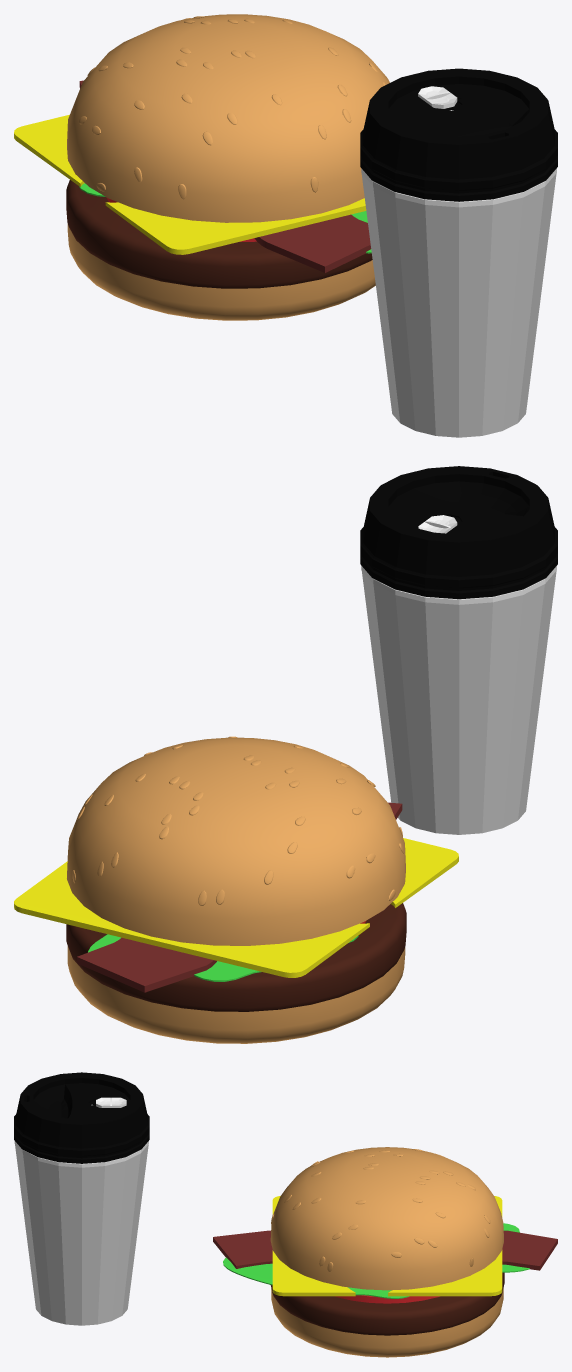
File: burger.gltf
The picture shows the model from 3 angles, top to bottom: view 1: azimuth 30°, elevation 25°; view 2: azimuth 150°, elevation 25°; view 3: azimuth 270°, elevation 25°; orthographic projection. The views are drawn at different scales.
Parts seen in each view (by area): view 1: Burger Bread A, Cup.2, Cap.3, Cutlet B, Burger Bread Down A, Cheese Slice C, Bacon Slice, Slider.1; view 2: Burger Bread A, Cup.2, Cap.3, Cutlet B, Burger Bread Down A, Cheese Slice C, Bacon Slice, Salad Slice; view 3: Burger Bread A, Cup.2, Cap.3, Cutlet B, Burger Bread Down A, Cheese Slice C, Bacon Slice, Salad Slice, Tomato Slice.
Boxes of the visible parts, x1,y1,x2,y2 form: Burger Bread A: [67, 14, 389, 222]; Cup.2: [361, 168, 556, 437]; Cap.3: [360, 68, 557, 201]; Cutlet B: [66, 180, 372, 288]; Burger Bread Down A: [67, 224, 375, 320]; Cheese Slice C: [14, 114, 366, 254]; Bacon Slice: [79, 80, 371, 272]; Slider.1: [418, 86, 457, 110]; Burger Bread A: [67, 736, 405, 945]; Cup.2: [361, 566, 556, 834]; Cap.3: [360, 466, 557, 599]; Cutlet B: [66, 903, 406, 1011]; Burger Bread Down A: [67, 946, 405, 1043]; Cheese Slice C: [14, 838, 458, 977]; Bacon Slice: [77, 802, 402, 992]; Salad Slice: [88, 934, 358, 981]; Burger Bread A: [270, 1147, 503, 1290]; Cup.2: [14, 1104, 148, 1325]; Cap.3: [14, 1072, 149, 1163]; Cutlet B: [270, 1272, 504, 1335]; Burger Bread Down A: [271, 1288, 503, 1357]; Cheese Slice C: [272, 1196, 502, 1296]; Bacon Slice: [213, 1230, 557, 1270]; Salad Slice: [223, 1223, 529, 1298]; Tomato Slice: [335, 1295, 439, 1303].
Size of the model in its own units: 0.7522 by 0.7621 by 1.75.
